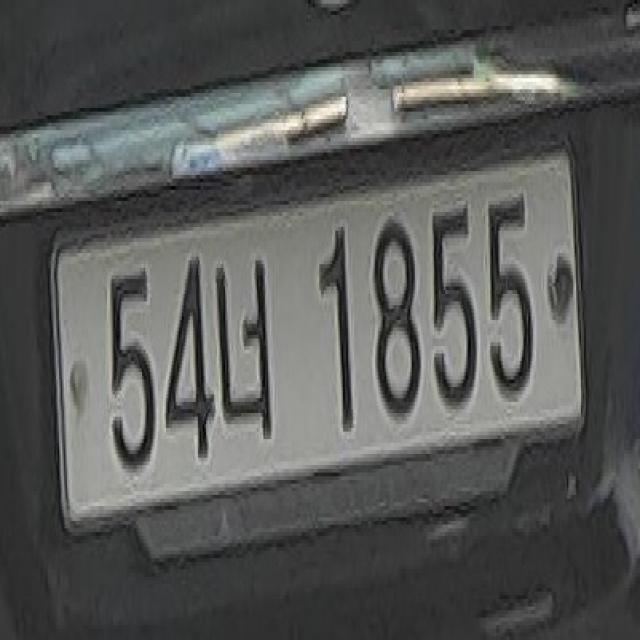1: (314, 194, 370, 439)
4: (161, 246, 220, 484)
5: (431, 190, 488, 428), (482, 186, 536, 424), (105, 253, 160, 473)
8: (370, 208, 430, 436)
license_plate: (51, 119, 602, 558)
neo: (214, 238, 281, 458)
